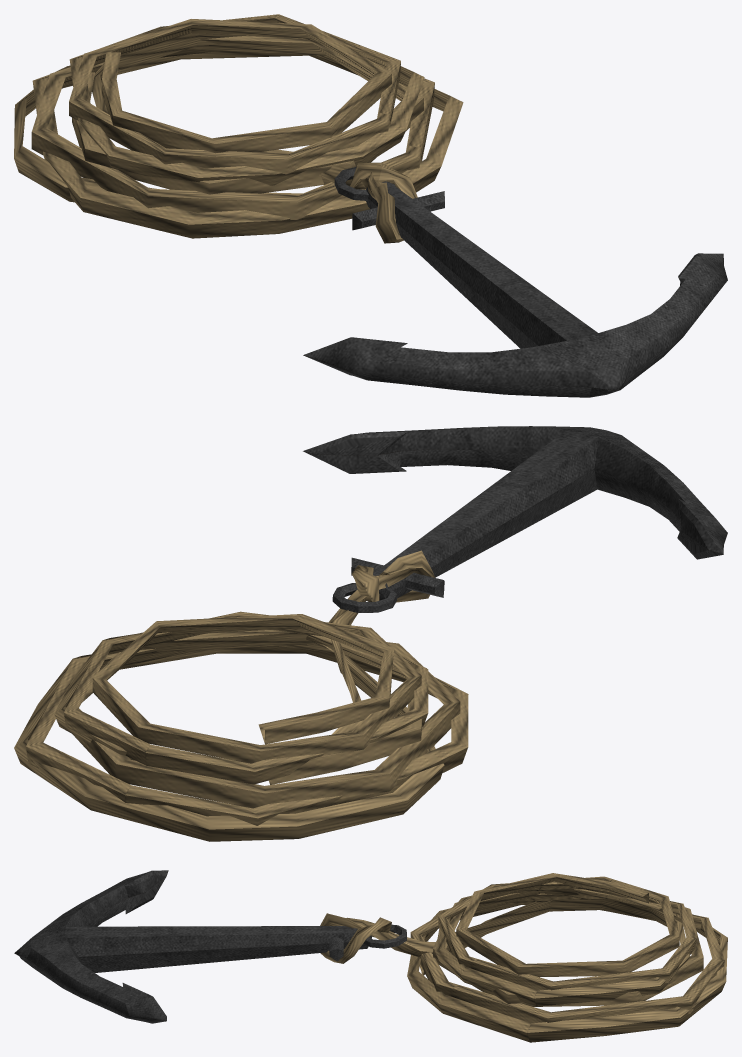
Rendered from anchor_static.fbx.
3 renders of one model, top to bottom at view 1: azimuth 30°, elevation 25°; view 2: azimuth 150°, elevation 25°; view 3: azimuth 270°, elevation 25°, orthographic. The views are drawn at different scales.
Visible parts, largest first — view 1: polySurface1; view 2: polySurface1; view 3: polySurface1.
Boxes of the visible parts, bbox=[...] form: polySurface1: bbox=[14, 14, 727, 397]; polySurface1: bbox=[14, 426, 727, 841]; polySurface1: bbox=[14, 870, 727, 1042].
Size of the model in its own units: 102 by 203 by 18.09.
1 material, 1 textured.
